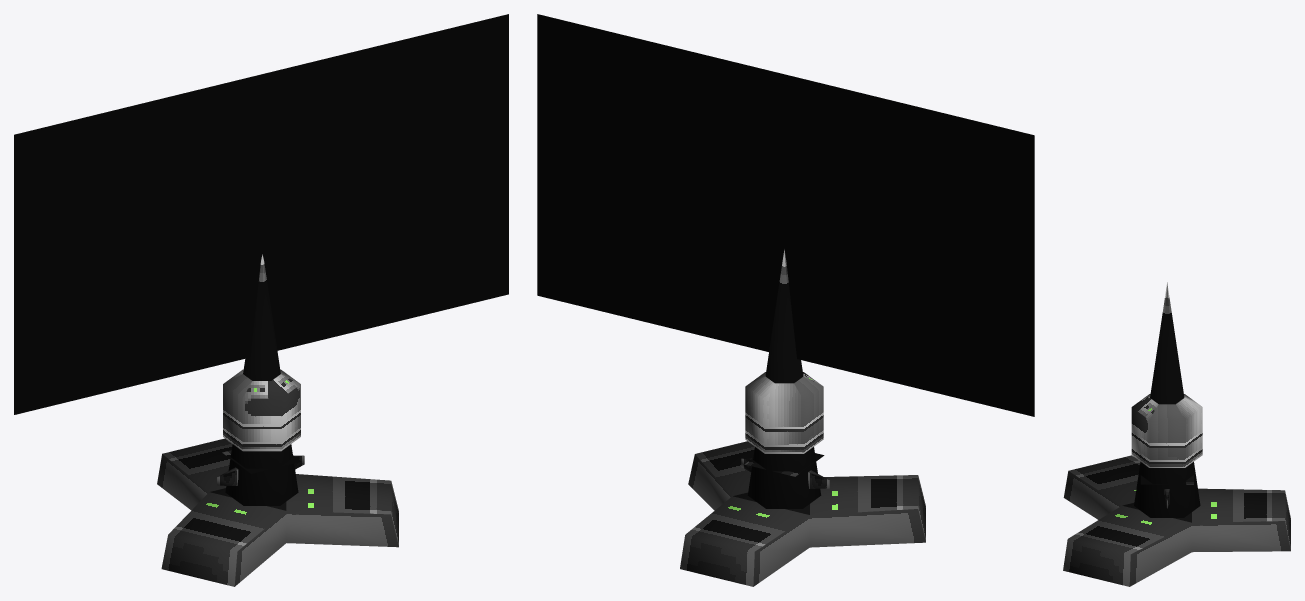
The picture shows the model from 3 angles, left to right: view 1: azimuth 30°, elevation 25°; view 2: azimuth 150°, elevation 25°; view 3: azimuth 270°, elevation 25°; orthographic projection. The views are drawn at different scales.
Parts seen in each view (by area): view 1: 3494IMEL01_11; view 2: 3494IMEL01_11; view 3: 3494IMEL01_11.
Boxes of the visible parts, left/top/right/bottom form: 3494IMEL01_11: left=14, top=14, right=508, bottom=586; 3494IMEL01_11: left=537, top=14, right=1034, bottom=586; 3494IMEL01_11: left=1063, top=282, right=1290, bottom=586.
Size of the model in its own units: 1.93 by 1.68 by 0.8464.
4 materials, 4 textured.
